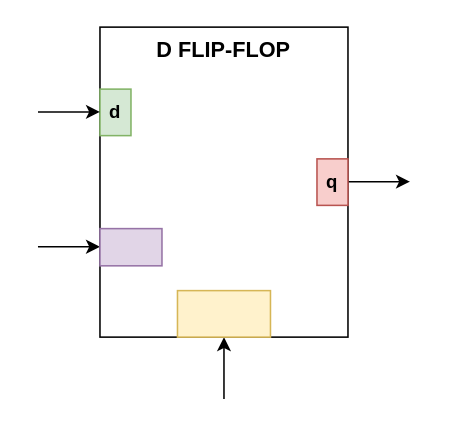
This 450x439 diagram has some shape labels left out. Here are the shapes that lost their labels. From the top down, the centre of each, then its label:
At (x=130, y=246): "reset".
At (x=223, y=313): "clock".
